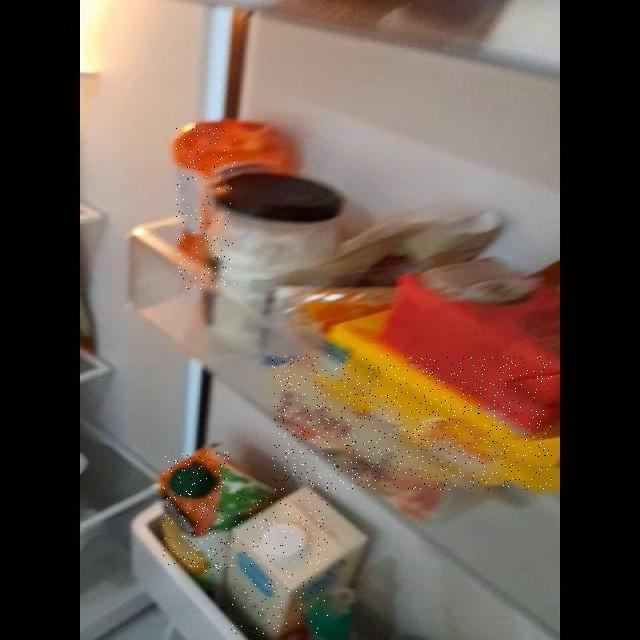butter: (272, 355, 552, 490)
juice: (163, 452, 229, 575)
milk: (231, 490, 328, 634)
sauce: (176, 126, 235, 290)
